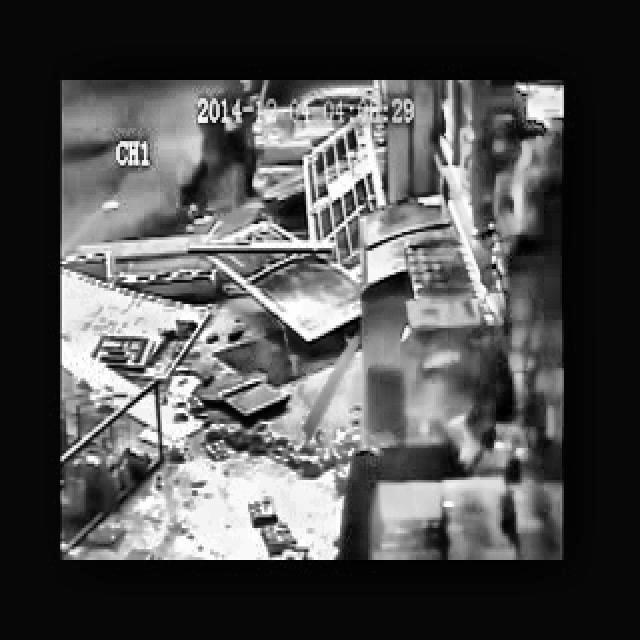burglary: (170, 81, 290, 226)
